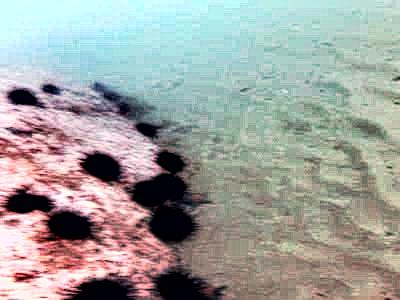urchin: (150, 203, 194, 244), (146, 269, 217, 294), (59, 273, 133, 295), (80, 151, 115, 182), (126, 176, 161, 206), (151, 170, 185, 200), (48, 213, 89, 237), (8, 193, 50, 214), (158, 152, 183, 173), (133, 121, 159, 139), (11, 87, 36, 104)
